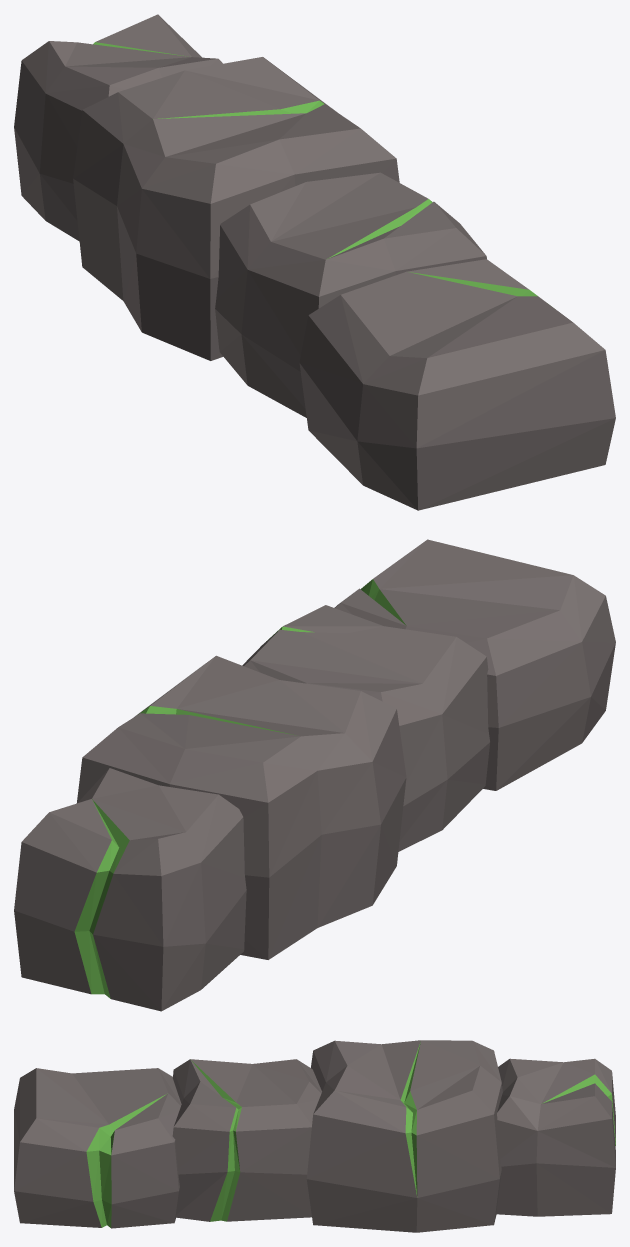
The model's file is wall_acc_02.FBX.
3 views of the same model, one above another, from view 1: azimuth 30°, elevation 25°; view 2: azimuth 150°, elevation 25°; view 3: azimuth 270°, elevation 25° (orthographic). The views are drawn at different scales.
Parts seen in each view (by area): view 1: wall_acc_02; view 2: wall_acc_02; view 3: wall_acc_02.
Boxes of the visible parts, x1,y1,x2,y2 form: wall_acc_02: [14, 14, 615, 510]; wall_acc_02: [14, 539, 615, 1011]; wall_acc_02: [14, 1040, 615, 1232].
Size of the model in its own units: 34.05 by 24.07 by 103.
